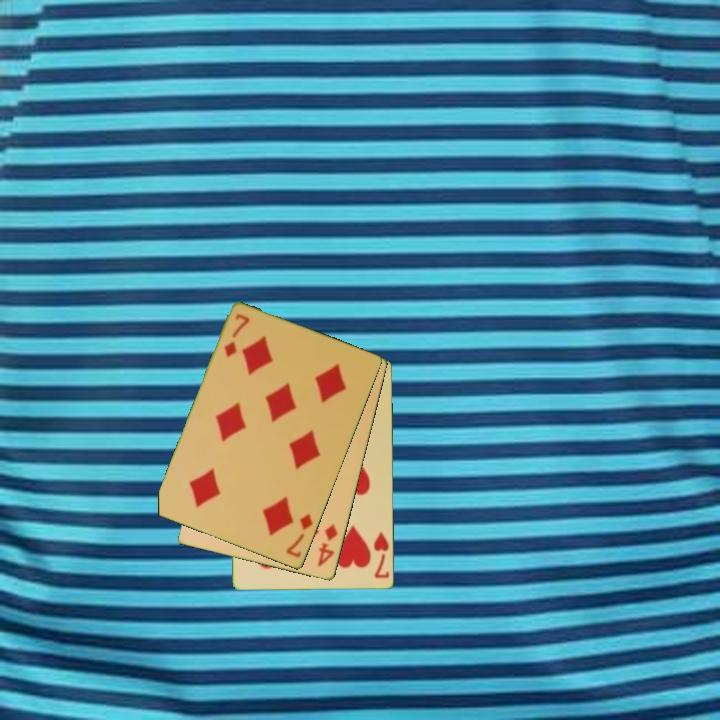4d: (314, 520, 341, 570)
7d: (283, 510, 316, 561), (220, 311, 253, 360)
7h: (370, 529, 392, 582)
